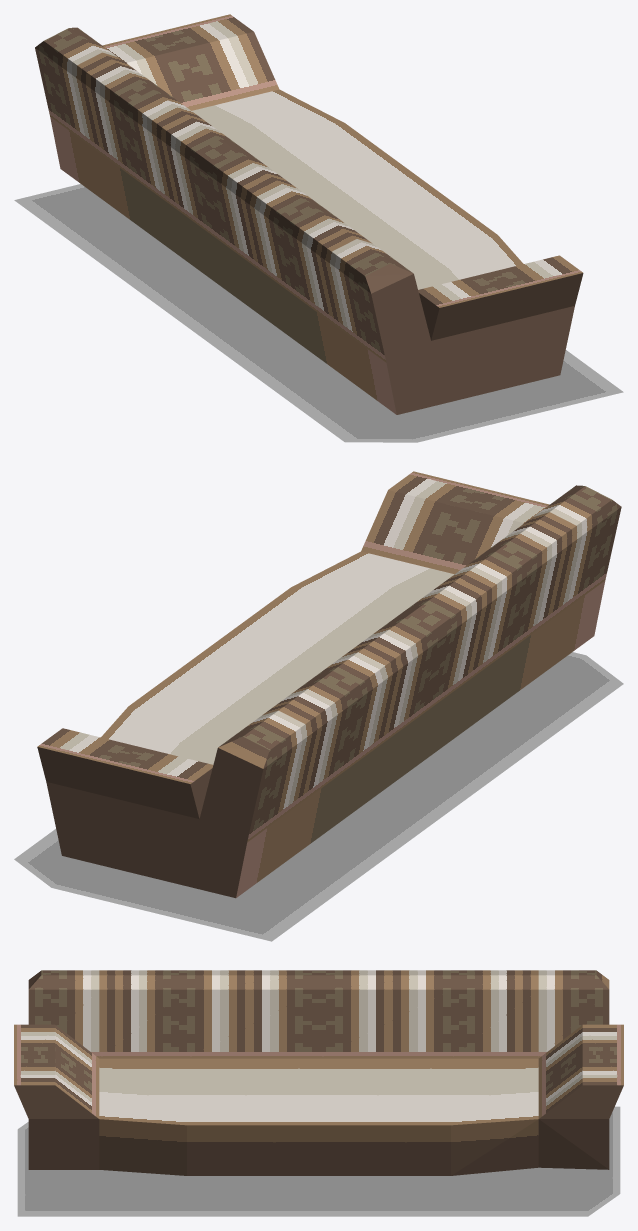
3 renders of one model, top to bottom at view 1: azimuth 30°, elevation 25°; view 2: azimuth 150°, elevation 25°; view 3: azimuth 270°, elevation 25°, orthographic. The views are drawn at different scales.
Visible parts, largest first — view 1: polygon0, polygon1; view 2: polygon0, polygon1; view 3: polygon0, polygon1.
Boxes of the visible parts, x1=… form: polygon0: x1=35, y1=14, x2=583, y2=414; polygon1: x1=14, y1=184, x2=623, y2=442; polygon0: x1=37, y1=471, x2=621, y2=898; polygon1: x1=14, y1=652, x2=623, y2=941; polygon0: x1=14, y1=970, x2=623, y2=1175; polygon1: x1=17, y1=1106, x2=620, y2=1216.
Size of the model in its own units: 4.43 by 2.8 by 10.41.
